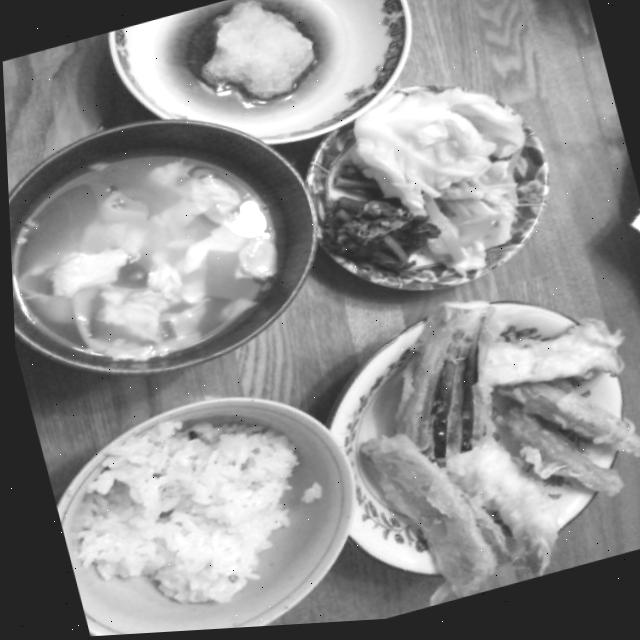米饭主食: (27, 342, 394, 639)
